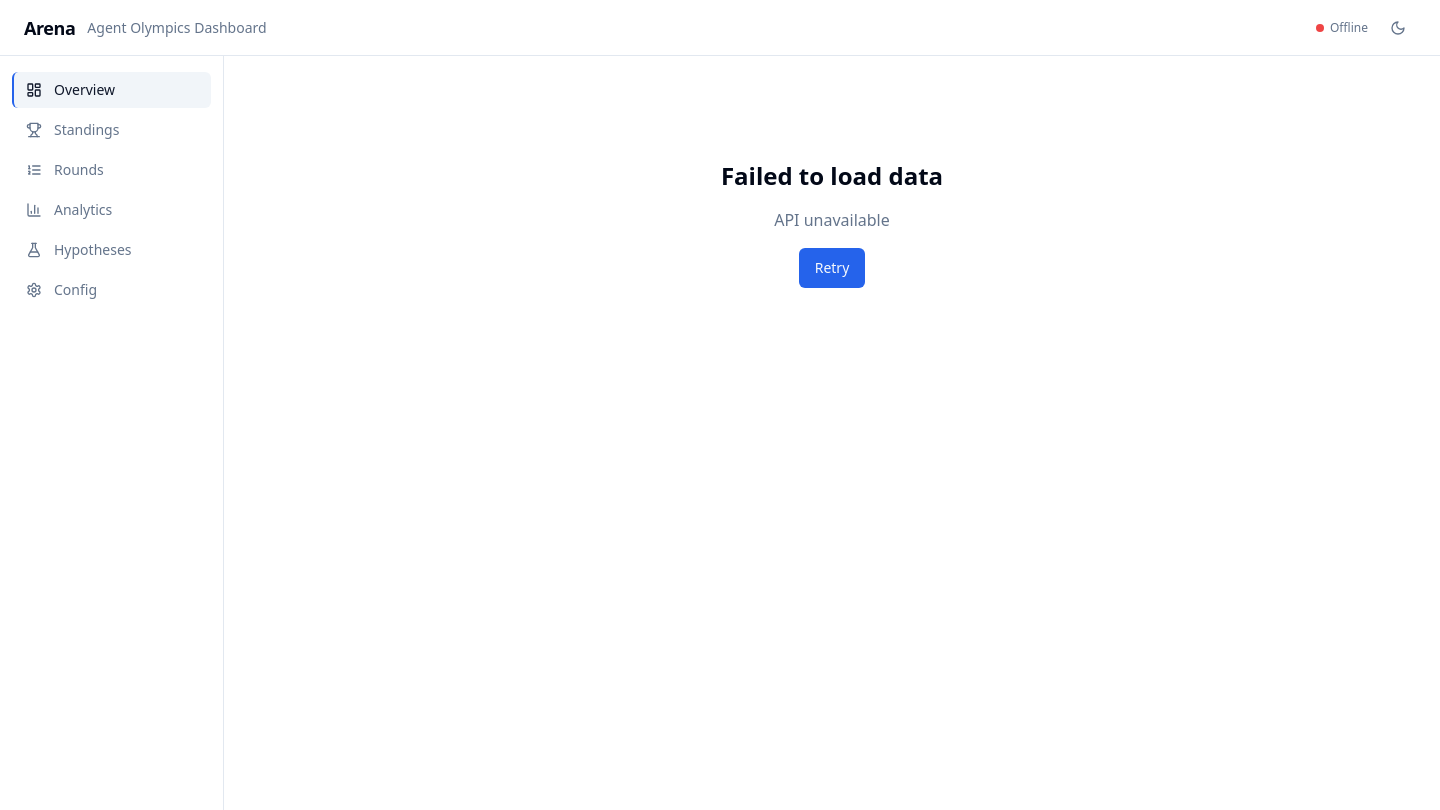
ContentArea › retries on error retry button click
The image size is (1440, 810).
Expected: the element with test id "error-display" is shown, [721,159,943,288]
Click the button "Retry": [832, 268] box [799,248,865,288]
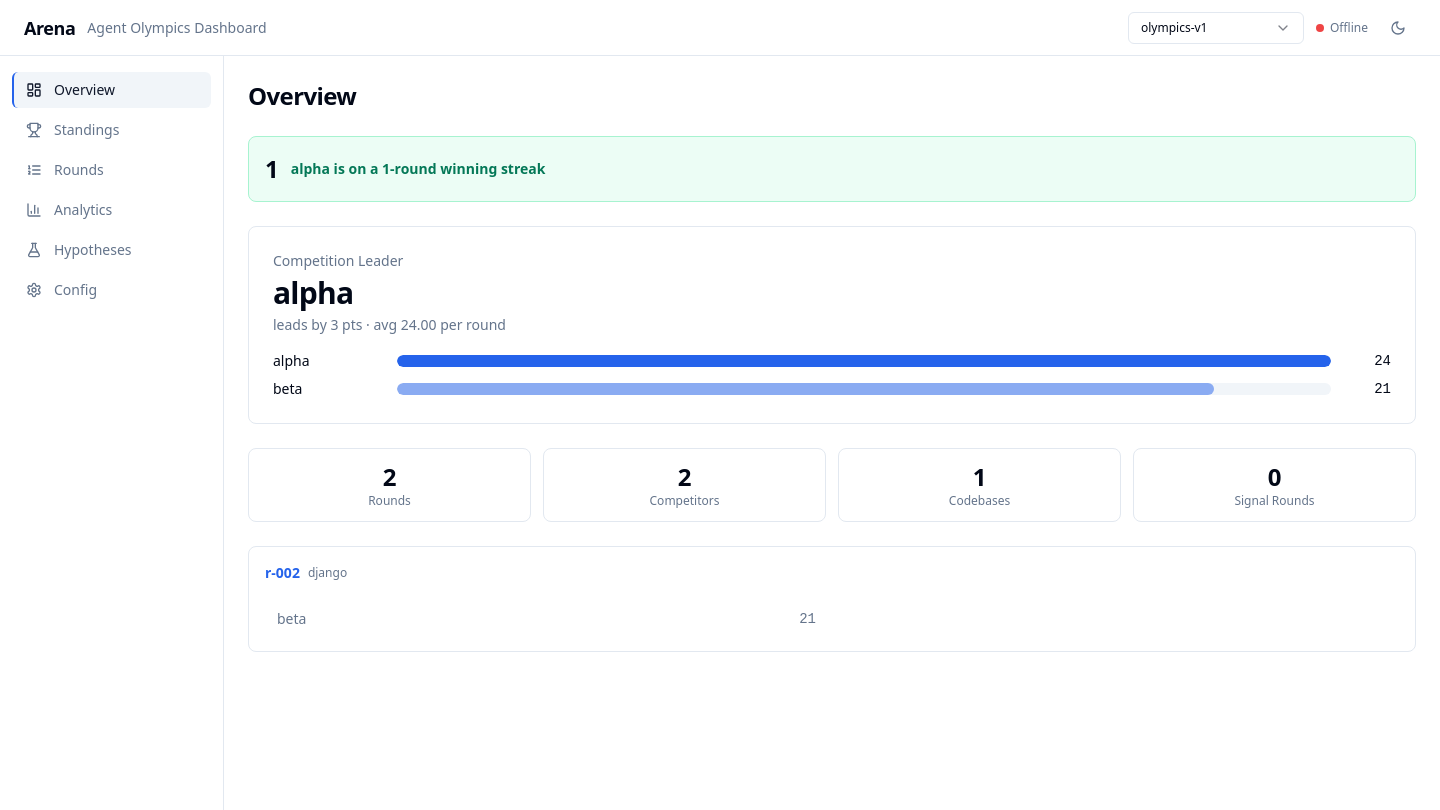
Now the heading "Overview" is shown, box [248,79,356,112]
